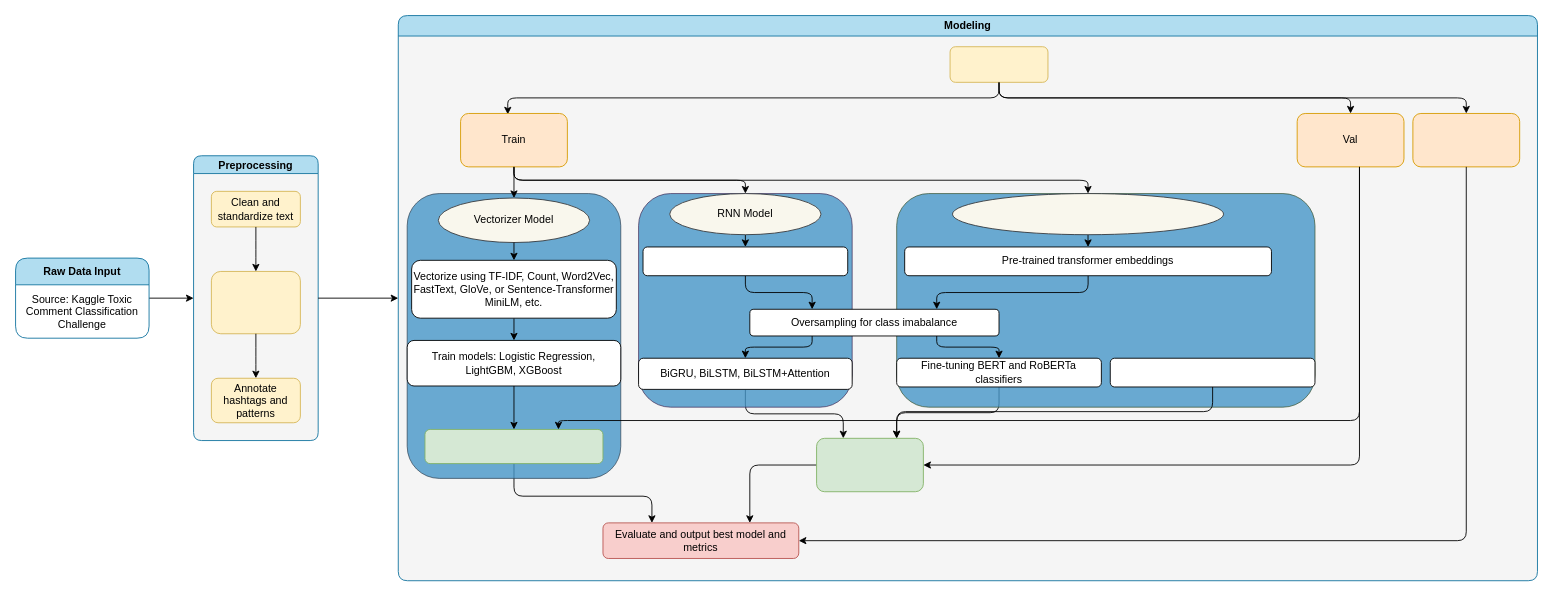
Image size: 1553x596. Some labels were removed from this diagram. The box of each missing label's shape, as (x1, y1, x2, y2) in pixels:
Fine-tuning GPT-1 and flan-t5-base using LoRA: (1109, 357, 1315, 387)
GloVe 300d embeddings: (642, 246, 848, 276)
Preprocessed Tokens: (949, 46, 1048, 82)
Test: (1412, 113, 1520, 167)
Tokenize with Ekphrasis : Split text, handle social media: (210, 271, 300, 334)
Train with Adaptive Focal Loss: (816, 437, 923, 492)
Transformer Model: (952, 193, 1224, 235)
Tune hyperparameters with Optuna: (424, 429, 603, 464)
